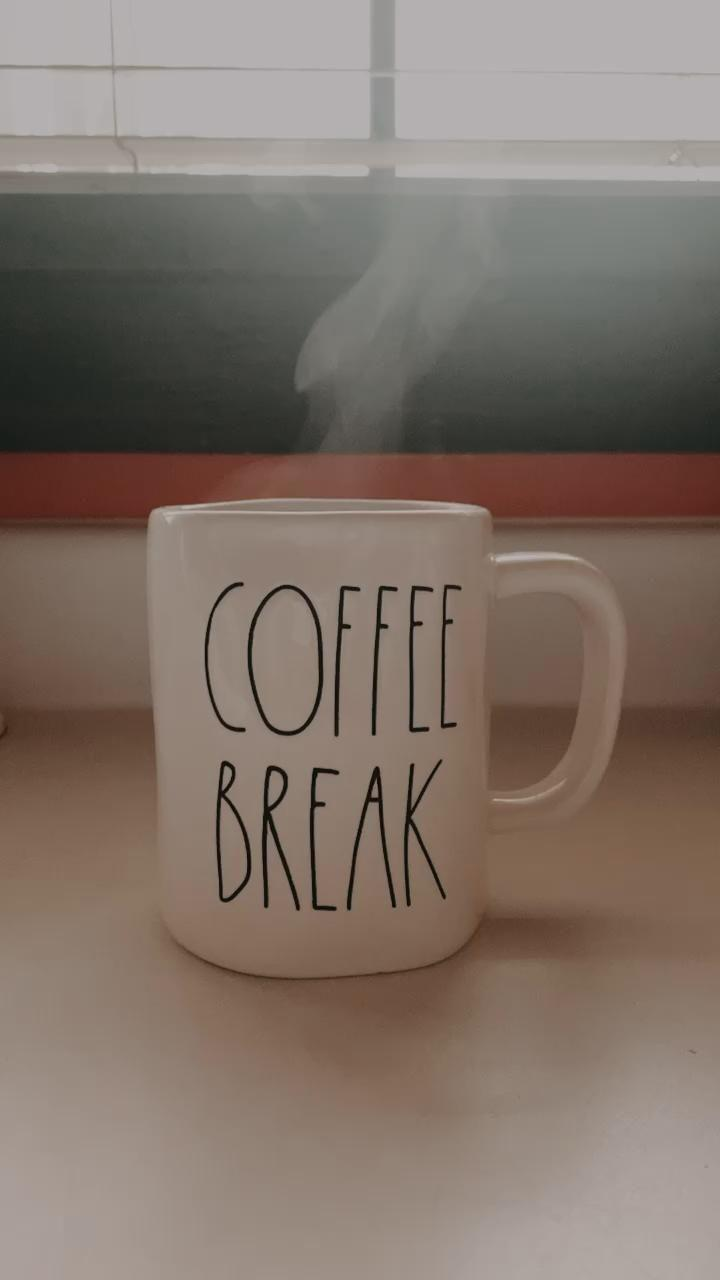cup-handle: (144, 497, 632, 983)
